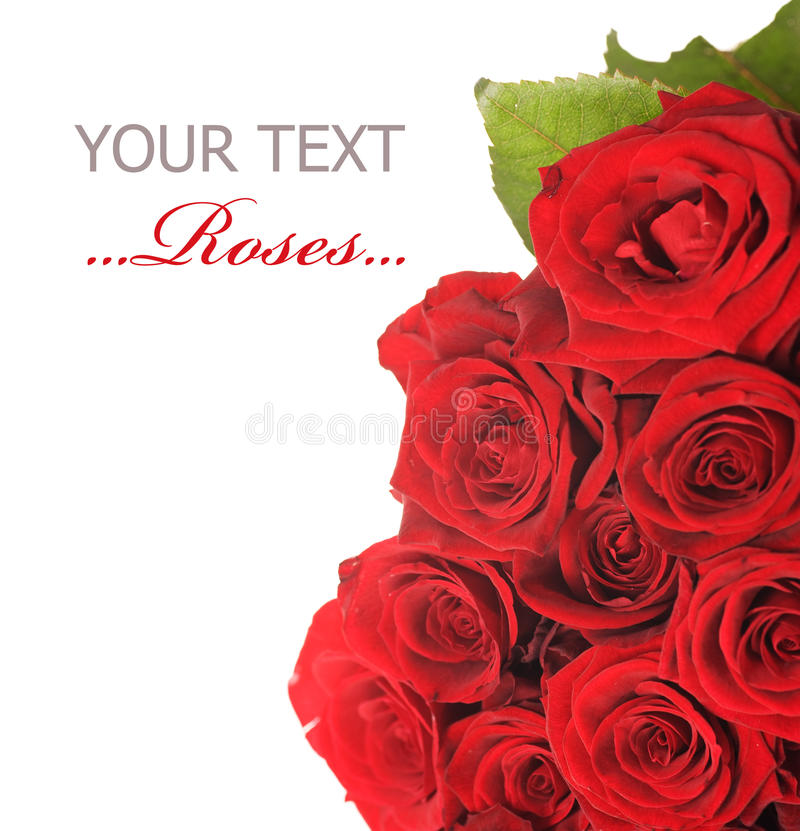RedRose: (577, 103, 800, 345), (356, 528, 561, 714), (610, 379, 800, 559), (414, 290, 571, 506), (557, 666, 739, 831), (684, 543, 797, 750), (527, 502, 688, 641), (452, 664, 559, 803)
